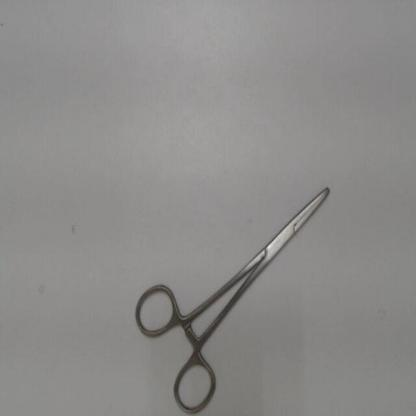Mayo Needle Holder: (128, 176, 338, 415)
